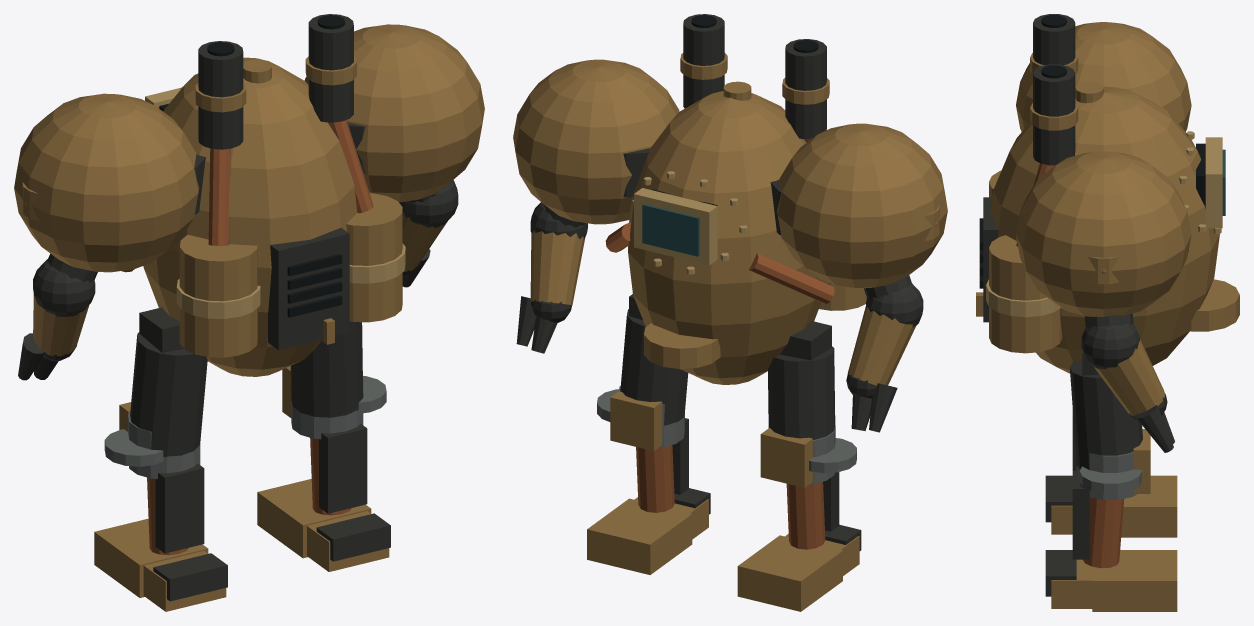
3 views of the same model, side by side, from view 1: azimuth 30°, elevation 25°; view 2: azimuth 150°, elevation 25°; view 3: azimuth 270°, elevation 25° (orthographic). The views are drawn at different scales.
Bounding box in the file's own units: 3.4 × 4 × 1.86.
